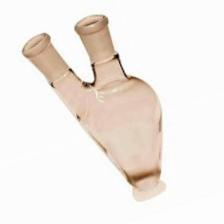Pear shaped flask: (21, 17, 172, 188)
